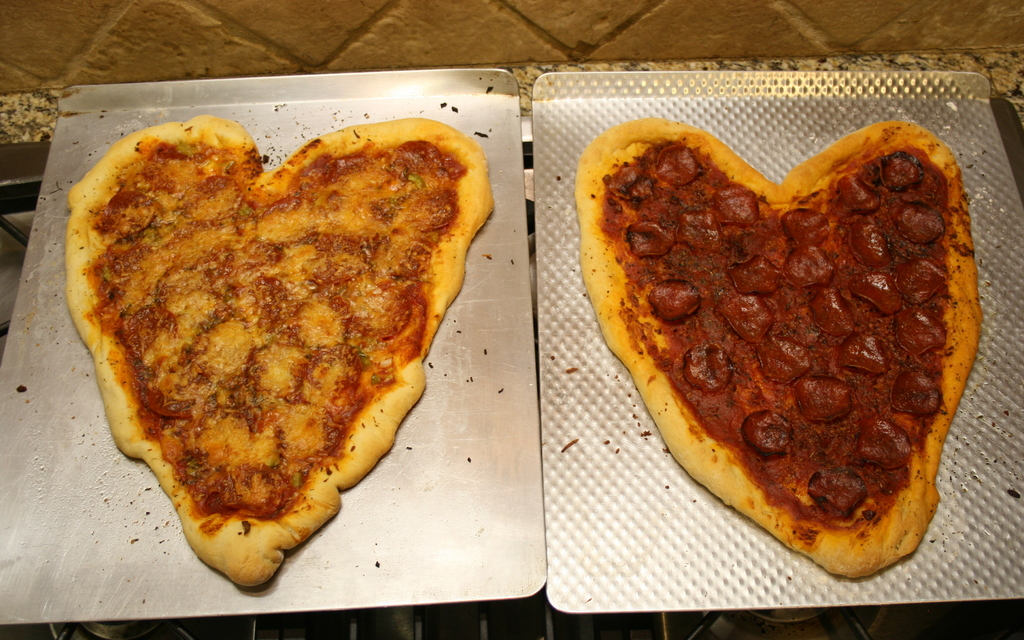Pizza: (64, 126, 501, 565), (576, 119, 986, 577)
